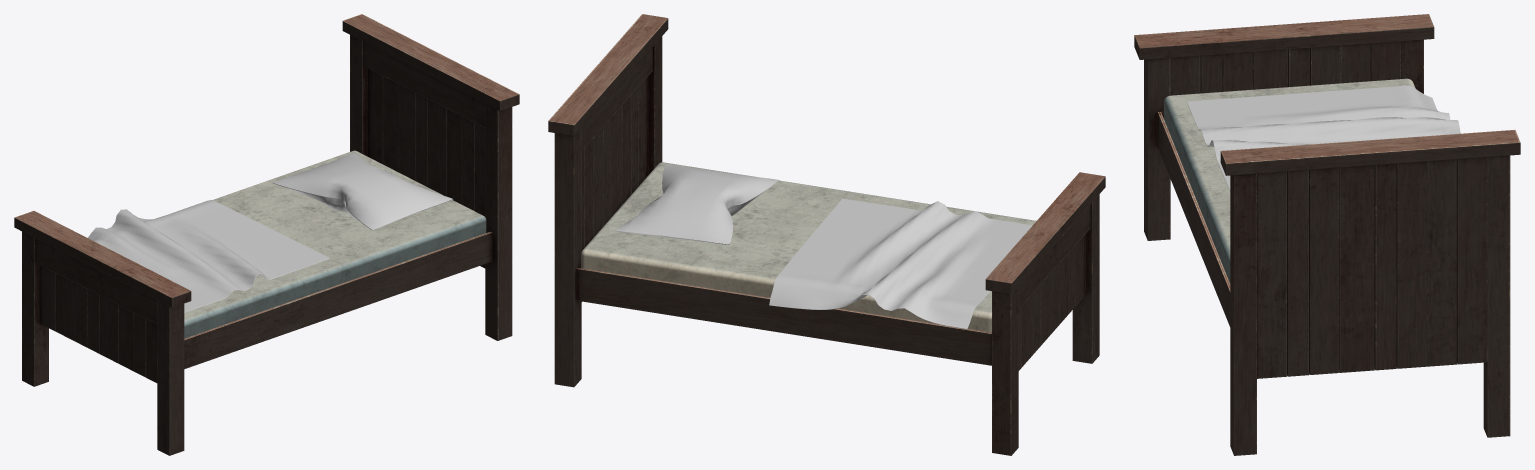
The model's file is Cama.fbx.
The picture shows the model from 3 angles, left to right: view 1: azimuth 30°, elevation 25°; view 2: azimuth 150°, elevation 25°; view 3: azimuth 270°, elevation 25°; orthographic projection. The views are drawn at different scales.
Visible parts, largest first — view 1: Cama; view 2: Cama; view 3: Cama.
Boxes of the visible parts, x1,y1,x2,y2 form: Cama: (14,14,519,455); Cama: (548,14,1105,455); Cama: (1134,14,1520,455).
Bounding box in the file's own units: 280 × 154 × 183.
